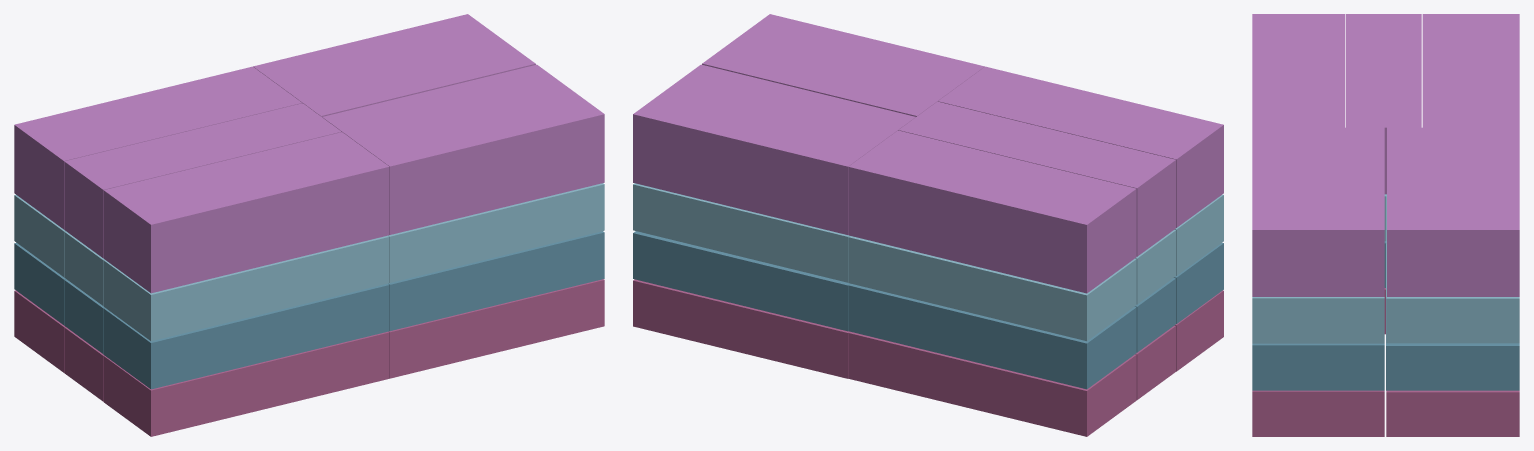
File: e-hitbox.glb
3 views of the same model, side by side, from view 1: azimuth 30°, elevation 25°; view 2: azimuth 150°, elevation 25°; view 3: azimuth 270°, elevation 25° (orthographic). The views are drawn at different scales.
Parts seen in each view (by area): view 1: E-E403, E-E402, E-E405, E-E401, E-E203, E-E303, E-E103, E-E404, E-E202, E-E302, E-E102, E-E205 (+5 smaller); view 2: E-E405, E-E401, E-E402, E-E403, E-E205, E-E305, E-E105, E-E404, E-E201, E-E301, E-E101, E-E203 (+5 smaller); view 3: E-E401, E-E402, E-E405, E-E403, E-E404, E-E201, E-E301, E-E202, E-E101, E-E302, E-E102.
Part boxes in pixels (x1,y1,x2,y2): E-E403: [103, 132, 389, 293]; E-E402: [322, 64, 604, 234]; E-E405: [14, 66, 301, 229]; E-E401: [253, 14, 535, 116]; E-E203: [103, 283, 389, 389]; E-E303: [103, 235, 389, 341]; E-E103: [103, 331, 389, 436]; E-E404: [64, 103, 341, 258]; E-E202: [388, 231, 604, 330]; E-E302: [388, 183, 604, 282]; E-E102: [388, 279, 604, 378]; E-E205: [14, 242, 65, 324]; E-E405: [848, 130, 1136, 293]; E-E401: [633, 64, 915, 234]; E-E402: [702, 14, 984, 116]; E-E403: [938, 66, 1223, 227]; E-E205: [848, 283, 1136, 389]; E-E305: [848, 236, 1136, 341]; E-E105: [848, 331, 1136, 436]; E-E404: [898, 101, 1175, 256]; E-E201: [633, 231, 849, 331]; E-E301: [633, 183, 849, 282]; E-E101: [633, 279, 849, 378]; E-E203: [1174, 242, 1223, 323]; E-E401: [1387, 127, 1519, 296]; E-E402: [1252, 127, 1384, 296]; E-E405: [1422, 14, 1519, 127]; E-E403: [1252, 14, 1344, 127]; E-E404: [1345, 14, 1421, 194]; E-E201: [1386, 244, 1519, 390]; E-E301: [1386, 196, 1519, 343]; E-E202: [1252, 343, 1384, 390]; E-E101: [1386, 390, 1519, 436]; E-E302: [1252, 297, 1384, 343]; E-E102: [1252, 390, 1384, 436].
Bounding box in the file's own units: 32.07 × 14.32 × 16.75.
